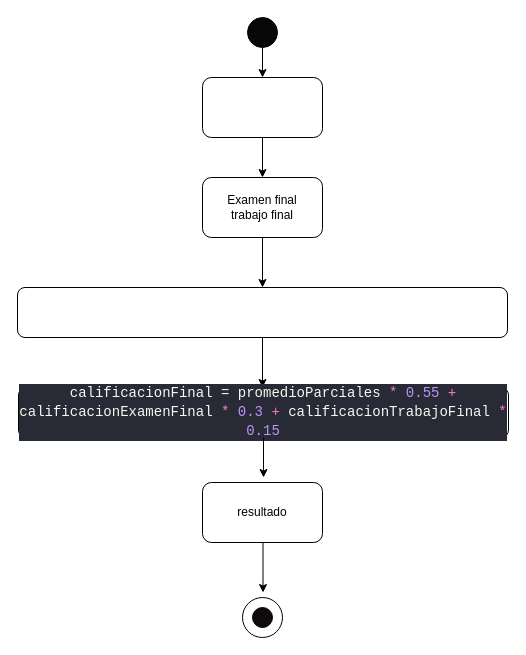
This 526x655 diagram has some shape labels left out. Here are the shapes that lost their labels. From the top down, the centre of each, then its label:
(x=262, y=107): calificacion1 calificacion 2 calificacion 3
(x=262, y=312): promedioParciales = (calificacion1 + calificacion2 + calificacion3) / 3
